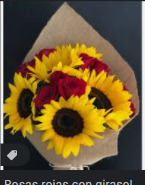RedRose: (58, 75, 90, 97), (35, 83, 58, 106), (77, 52, 96, 69), (49, 67, 67, 84), (38, 45, 58, 58), (18, 60, 38, 71), (91, 62, 109, 73)
